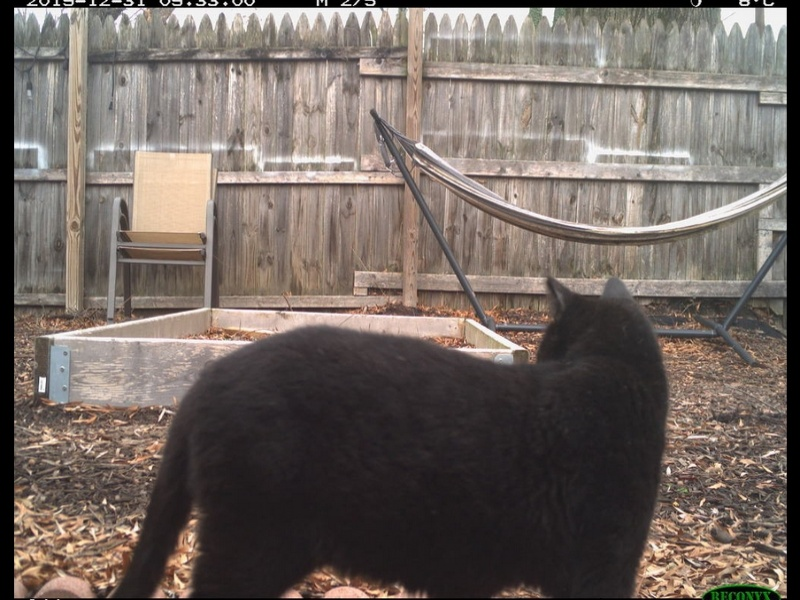cat: (111, 273, 670, 595)
